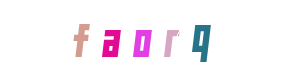A: (83, 0, 163, 80)
F: (71, 0, 151, 80)
O: (101, 0, 181, 80)
Q: (161, 0, 241, 80)
R: (107, 0, 187, 80)
